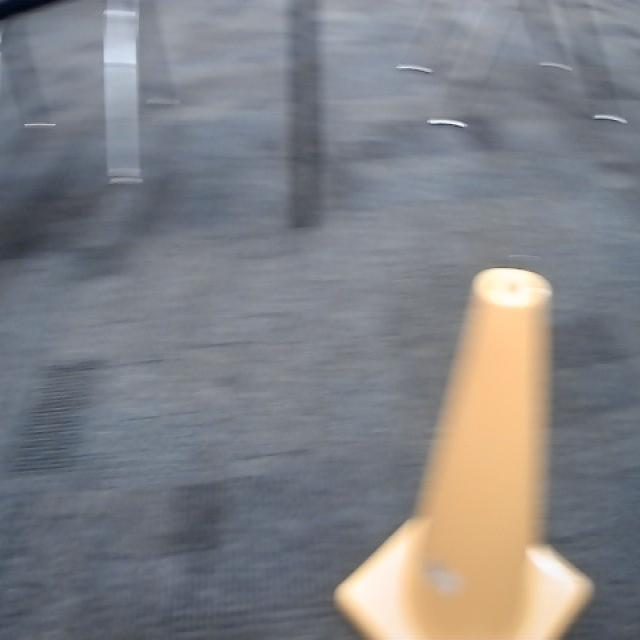cone: (334, 263, 596, 640)
